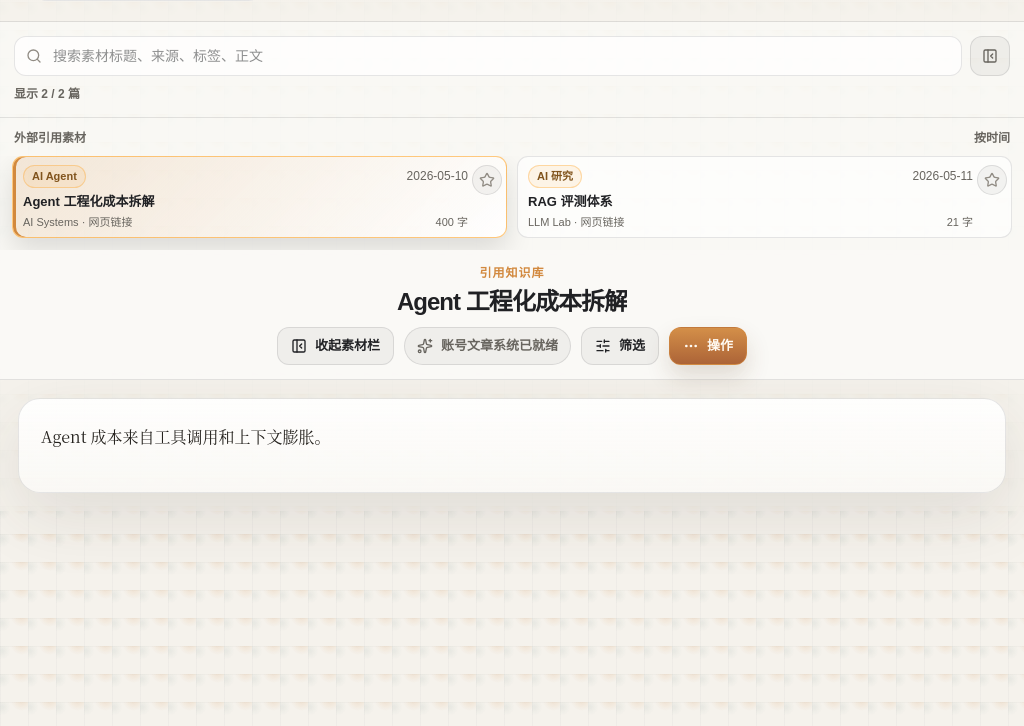
Workbench › deletes an article from the management panel after inline confirmation
(page scrolled)
Step 1. Click the button with aria-label "素材操作" → (708, 346), box [669,327,747,365]
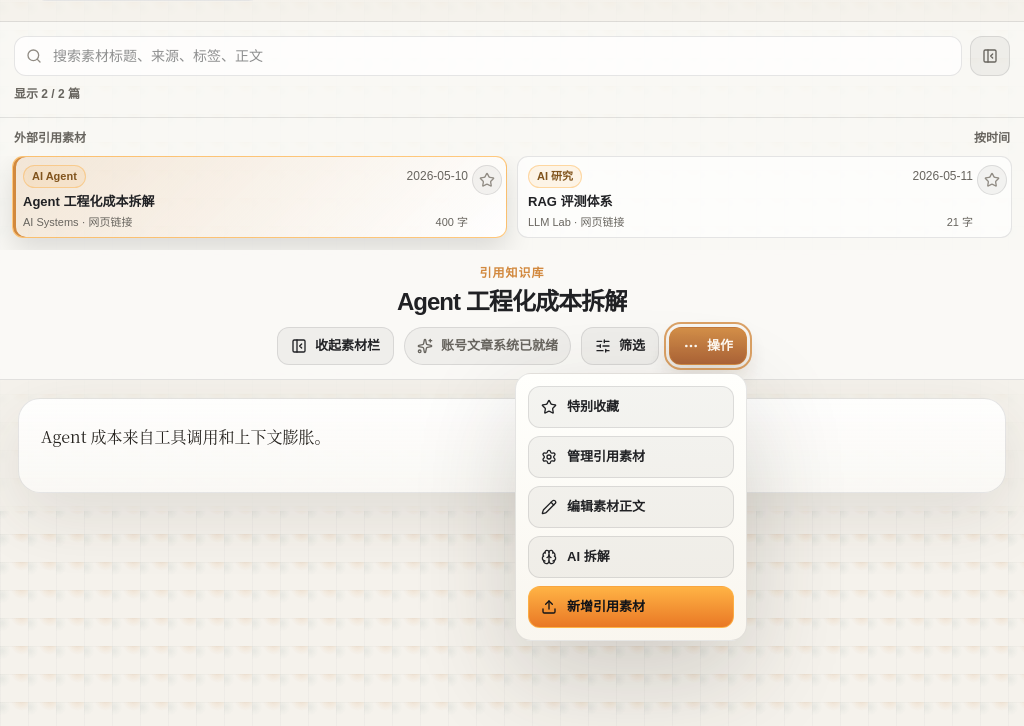
Step 2. Click the button "管理引用素材" → (631, 457), box [528,436,734,478]
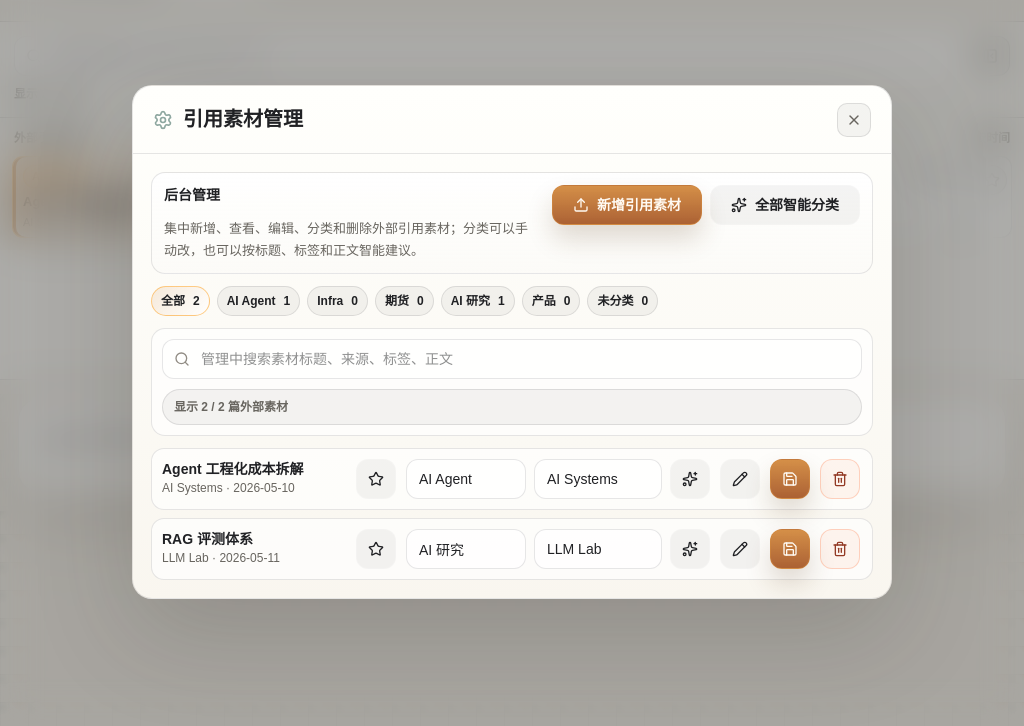
Expected: the text "Agent 工程化成本拆解" is shown, [162,461,304,477]
Step 3. Click the 5th button named "删除" → (840, 479), box [820,459,860,499]
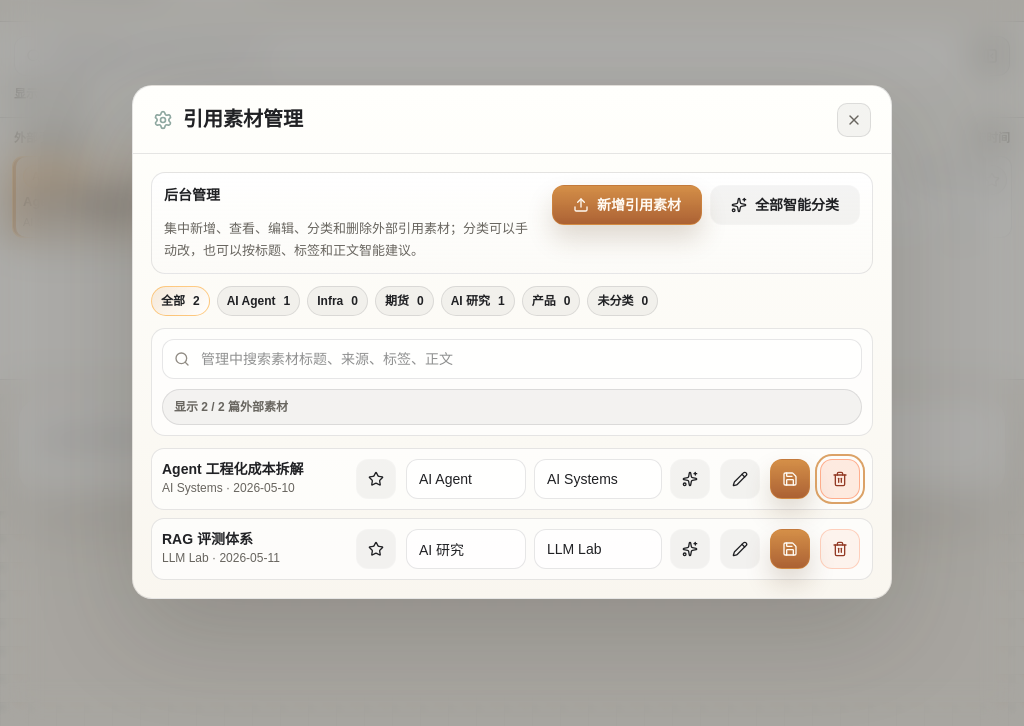
Expected: the text "再次点击确认删除：Agent 工程化成本拆解" is shown, [375,336,624,356]
Step 4. Click the 5th button named "确认删除" → (840, 479), box [820,459,860,499]
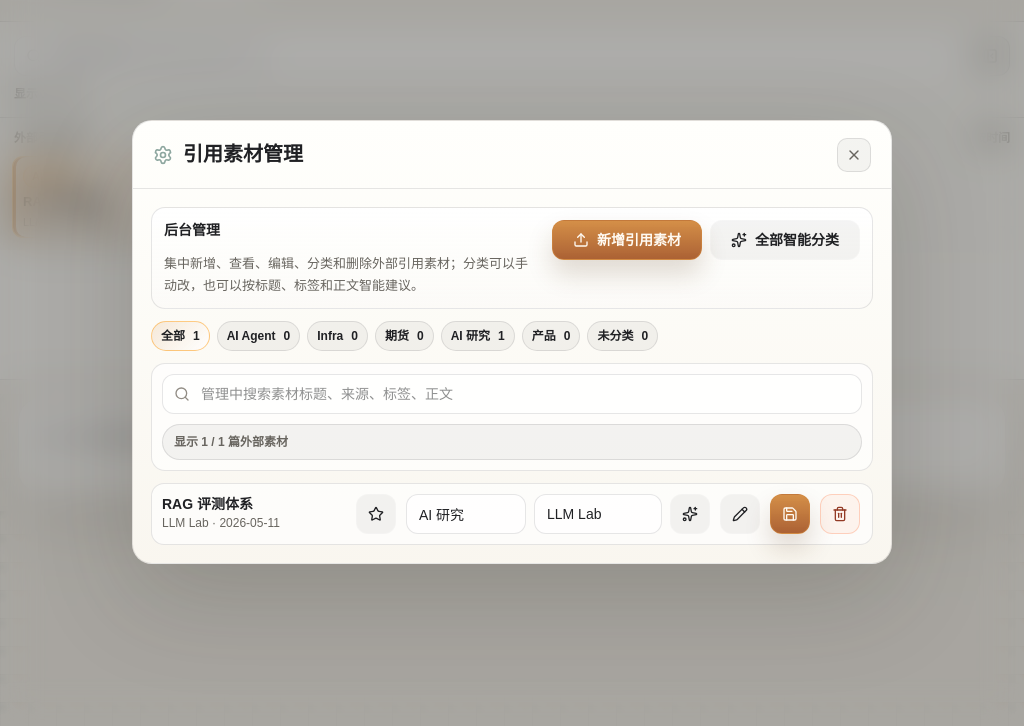
Expected: the text "已删除引用素材：Agent 工程化成本拆解" is shown, [382,336,617,356]
